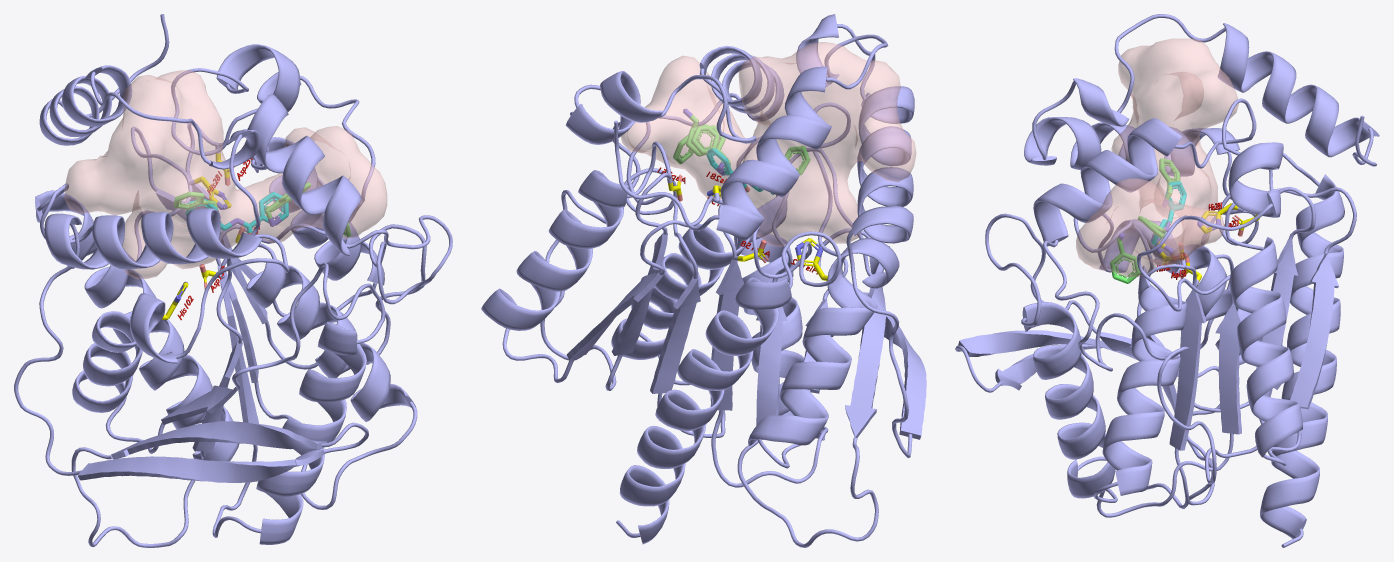
File: example.gltf
3 renders of one model, left to right at view 1: azimuth 30°, elevation 25°; view 2: azimuth 150°, elevation 25°; view 3: azimuth 270°, elevation 25°, orthographic. The views are drawn at different scales.
Parts seen in each view (by area): view 1: node-geom52, node-geom53, node-geom185, node-geom54; view 2: node-geom52, node-geom53, node-geom185, node-geom54; view 3: node-geom53, node-geom52, node-geom185, node-geom54.
Boxes of the visible parts, x1,y1,x2,y2 form: node-geom52: (14,14,385,547); node-geom53: (171,44,452,544); node-geom185: (64,70,387,279); node-geom54: (35,126,376,461); node-geom52: (614,14,926,547); node-geom53: (481,46,828,487); node-geom185: (621,42,916,247); node-geom54: (566,195,841,544); node-geom53: (1022,98,1315,517); node-geom52: (955,14,1379,505); node-geom185: (1076,38,1238,277); node-geom54: (1218,152,1356,547).
Bounding box in the file's own units: 42.76 × 50.7 × 42.2.
